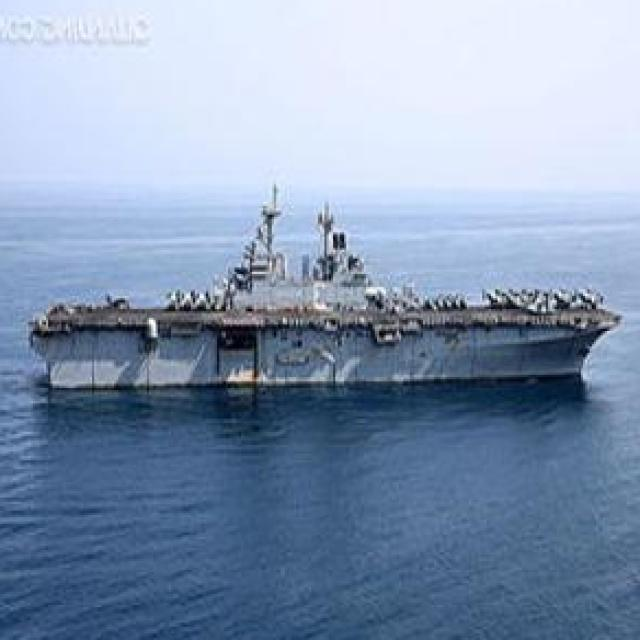navalvessels: (37, 144, 622, 406)
